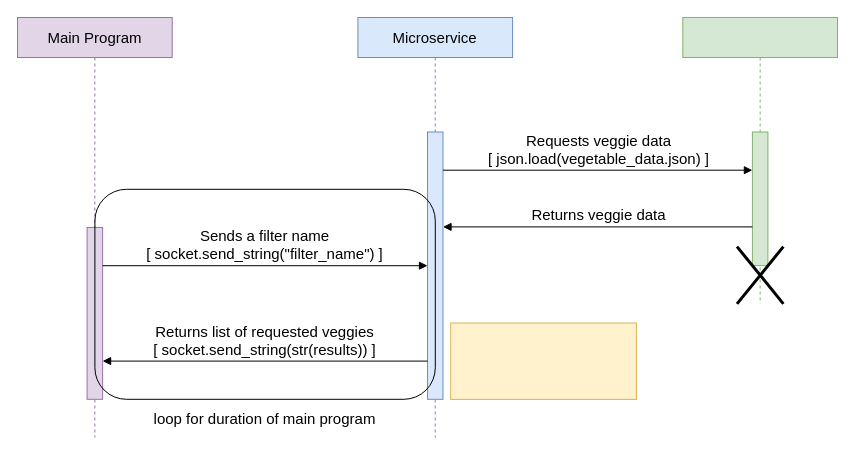
The diagram is 855 pixels wide and 455 high, and some of its shapes have lost their labels. Each missing label, with the box of its shape:
if no results found, microservice returns "No data found.": (450, 322, 636, 399)
vegetable_data.json: (682, 16, 838, 304)
